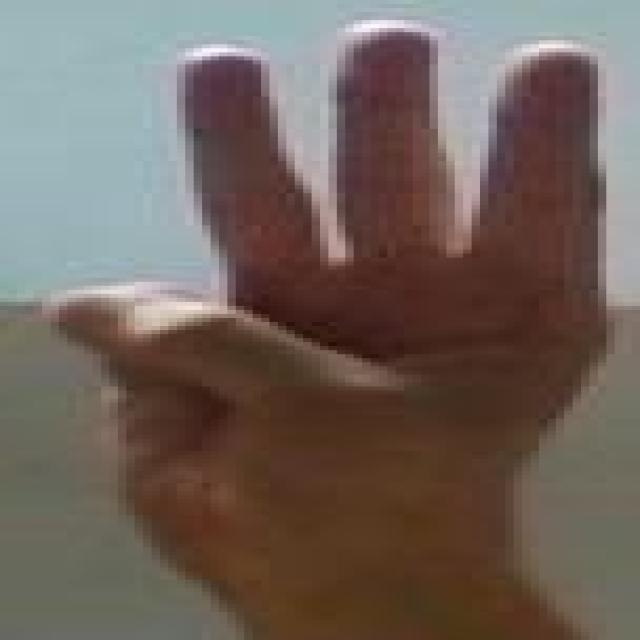W: (44, 9, 608, 583)
